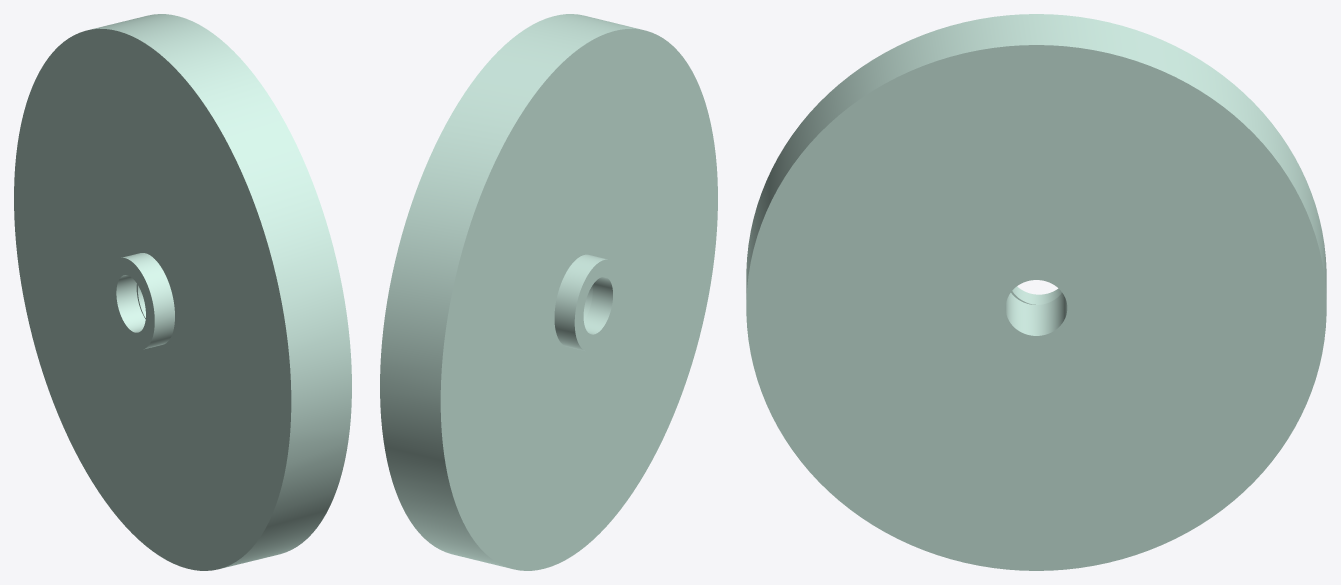
The picture shows the model from 3 angles, left to right: view 1: azimuth 30°, elevation 25°; view 2: azimuth 150°, elevation 25°; view 3: azimuth 270°, elevation 25°; orthographic projection. The views are drawn at different scales.
Parts seen in each view (by area): view 1: Renderer Node; view 2: Renderer Node; view 3: Renderer Node.
Boxes of the visible parts, left/top/right/bottom form: Renderer Node: left=14, top=14, right=351, bottom=570; Renderer Node: left=380, top=14, right=717, bottom=570; Renderer Node: left=746, top=14, right=1326, bottom=570.
Size of the model in its own units: 0.25 by 1.48 by 1.48.
